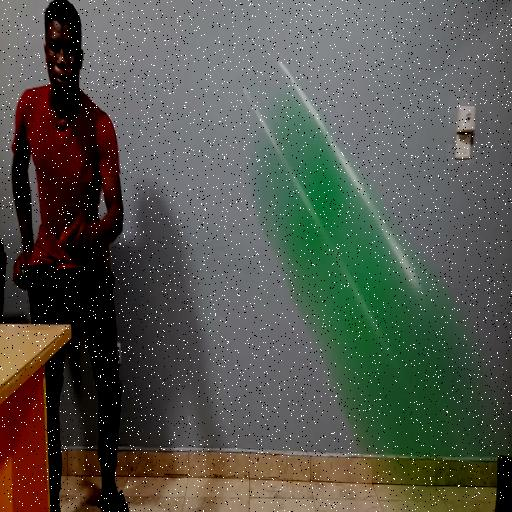plastic-ball: (249, 91, 512, 512)
